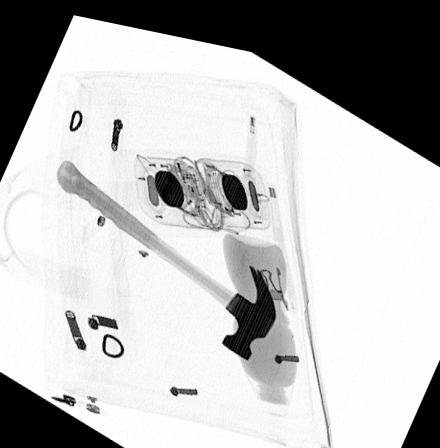Hammer: (56, 156, 277, 350)
